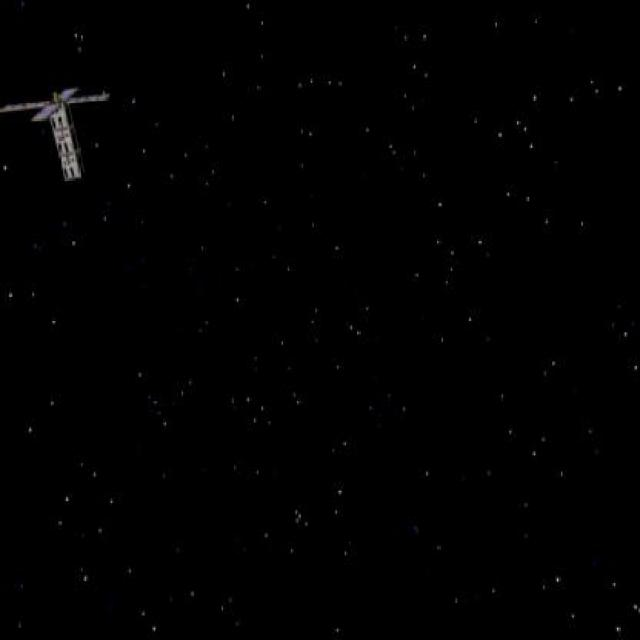medium_debris: (0, 73, 115, 192)
